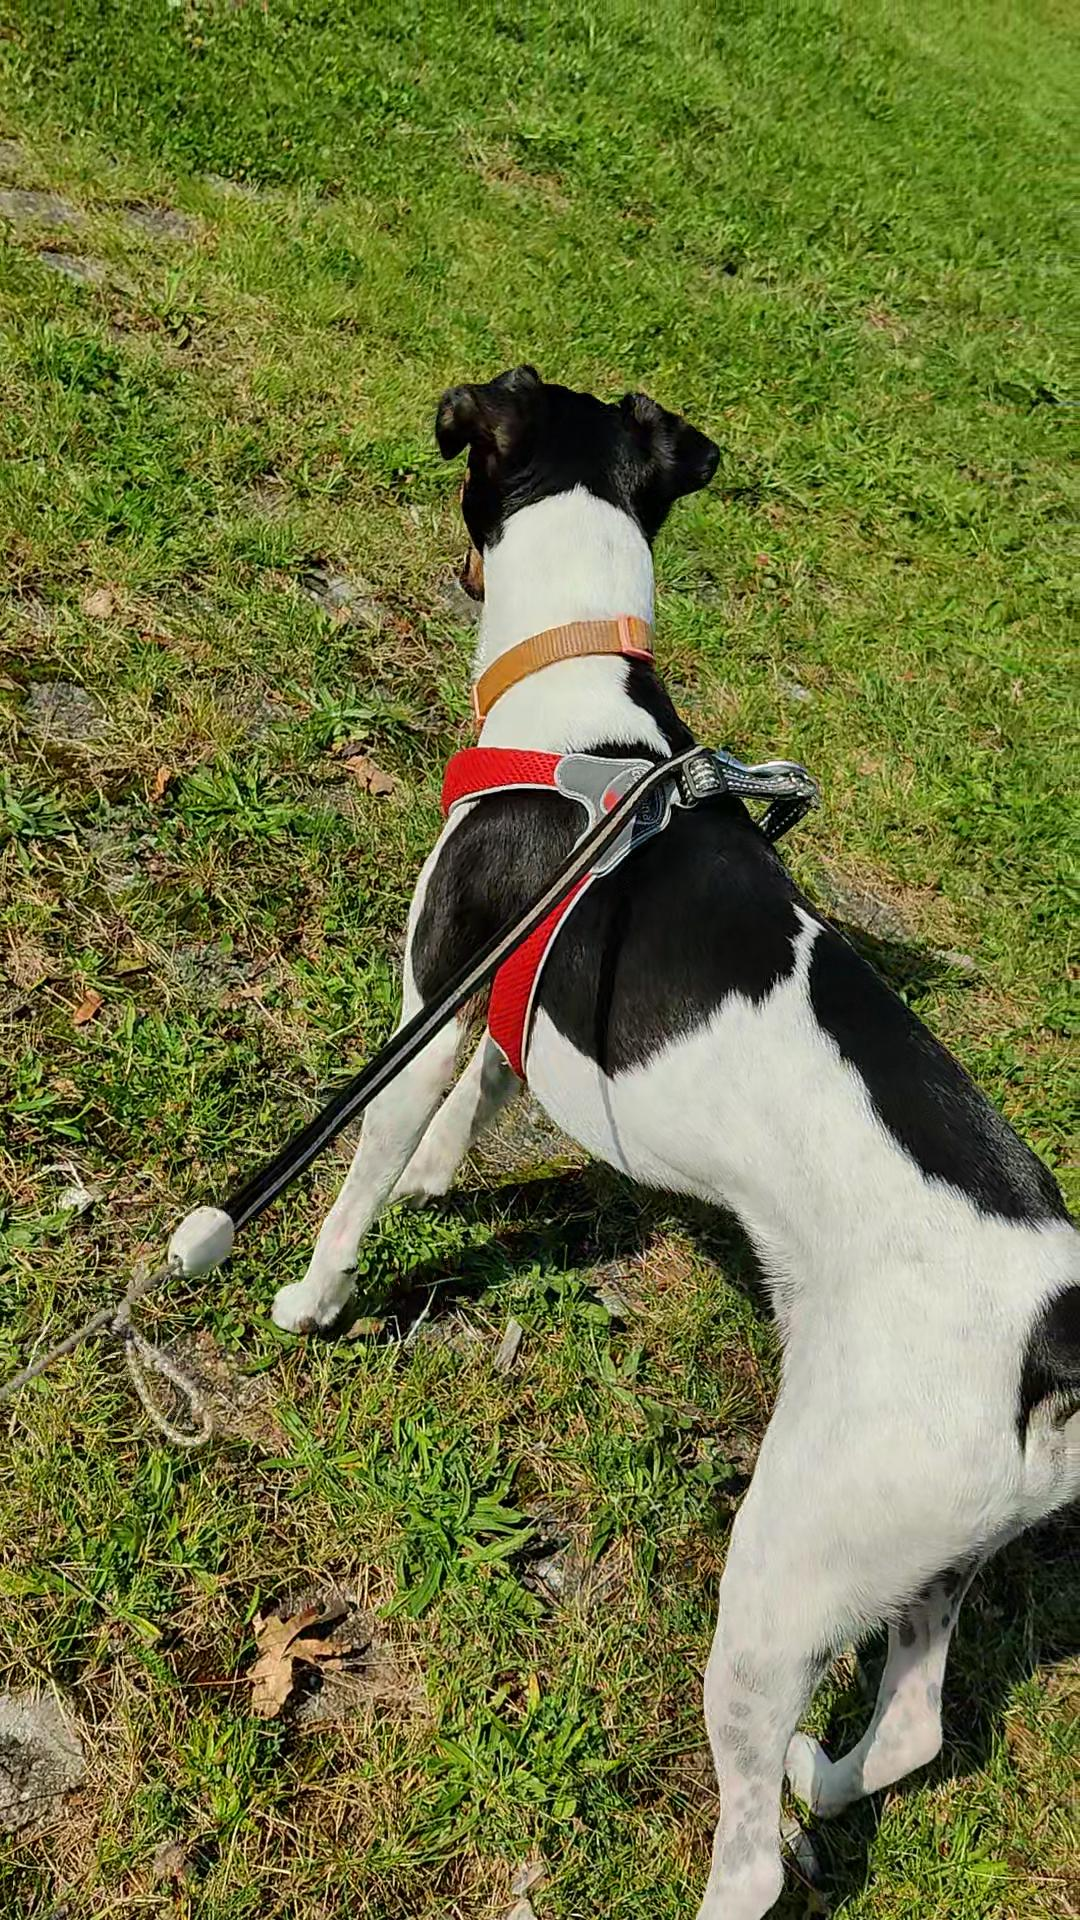Dog: (249, 357, 1079, 1919)
